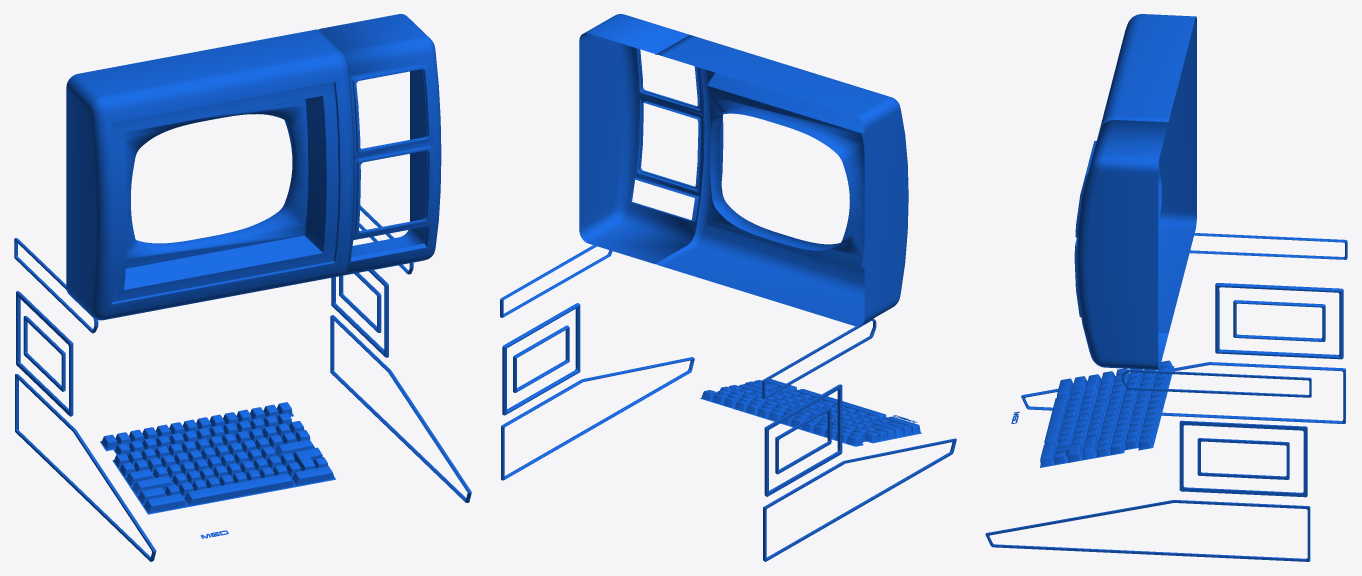
The picture shows the model from 3 angles, left to right: view 1: azimuth 30°, elevation 25°; view 2: azimuth 150°, elevation 25°; view 3: azimuth 270°, elevation 25°; orthographic projection. The views are drawn at different scales.
Visible parts, largest first — view 1: Object_9; view 2: Object_9; view 3: Object_9.
Part boxes in pixels (x1=…): Object_9: x1=14, y1=14, x2=471, y2=561; Object_9: x1=500, y1=14, x2=956, y2=561; Object_9: x1=985, y1=14, x2=1347, y2=561.
Bounding box in the file's own units: 0.5645 × 0.6791 × 0.5593.
